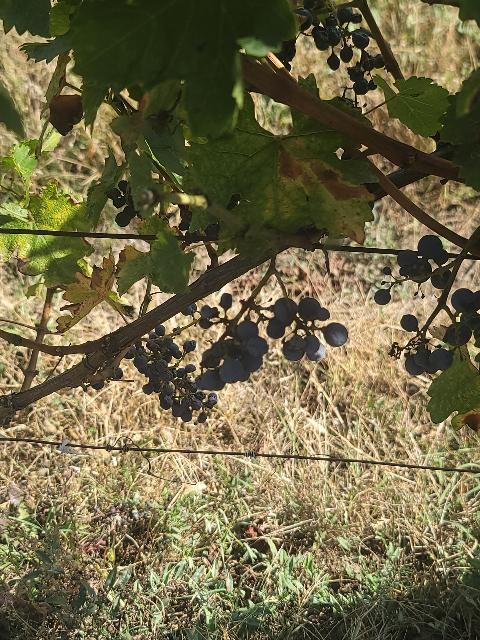grapes: (195, 294, 348, 391), (125, 325, 218, 422)
